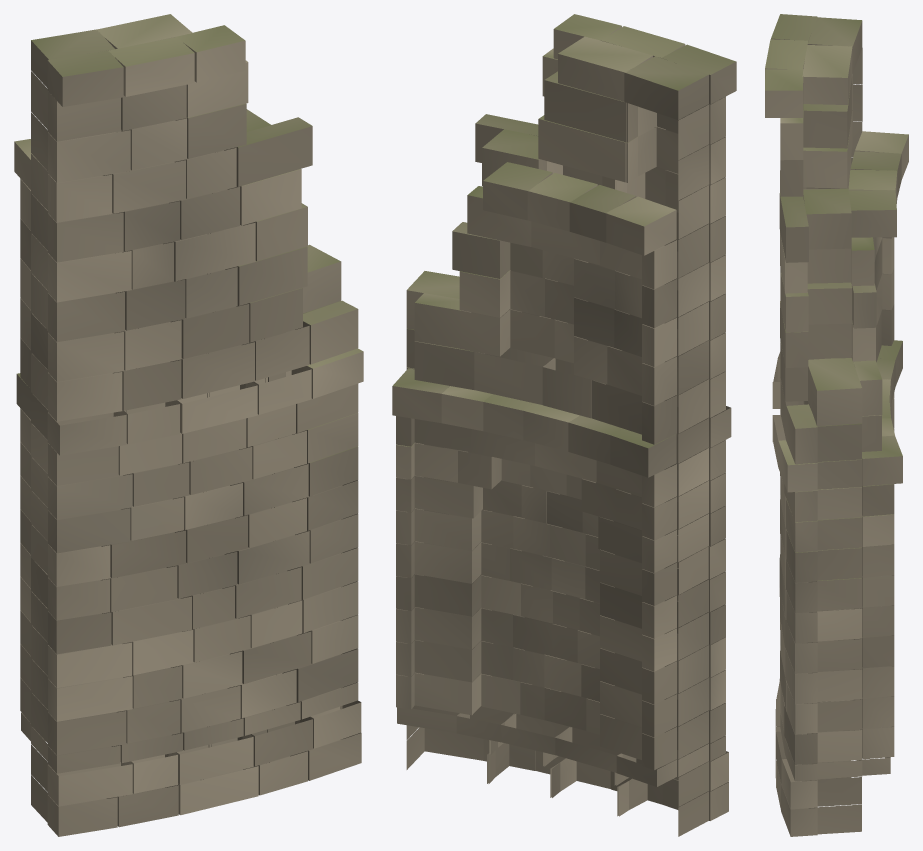
The model's file is dome_drum_bm2_mid.glb.
3 views of the same model, side by side, from view 1: azimuth 30°, elevation 25°; view 2: azimuth 150°, elevation 25°; view 3: azimuth 270°, elevation 25° (orthographic). The views are drawn at different scales.
Parts seen in each view (by area): view 1: dome_drum_bm2_mid; view 2: dome_drum_bm2_mid; view 3: dome_drum_bm2_mid.
Boxes of the visible parts, box(x1,y1,x2,y2) form: dome_drum_bm2_mid: box(14, 14, 363, 836); dome_drum_bm2_mid: box(392, 14, 736, 836); dome_drum_bm2_mid: box(765, 14, 908, 836).
Bounding box in the file's own units: 20.87 × 49.97 × 9.46.
